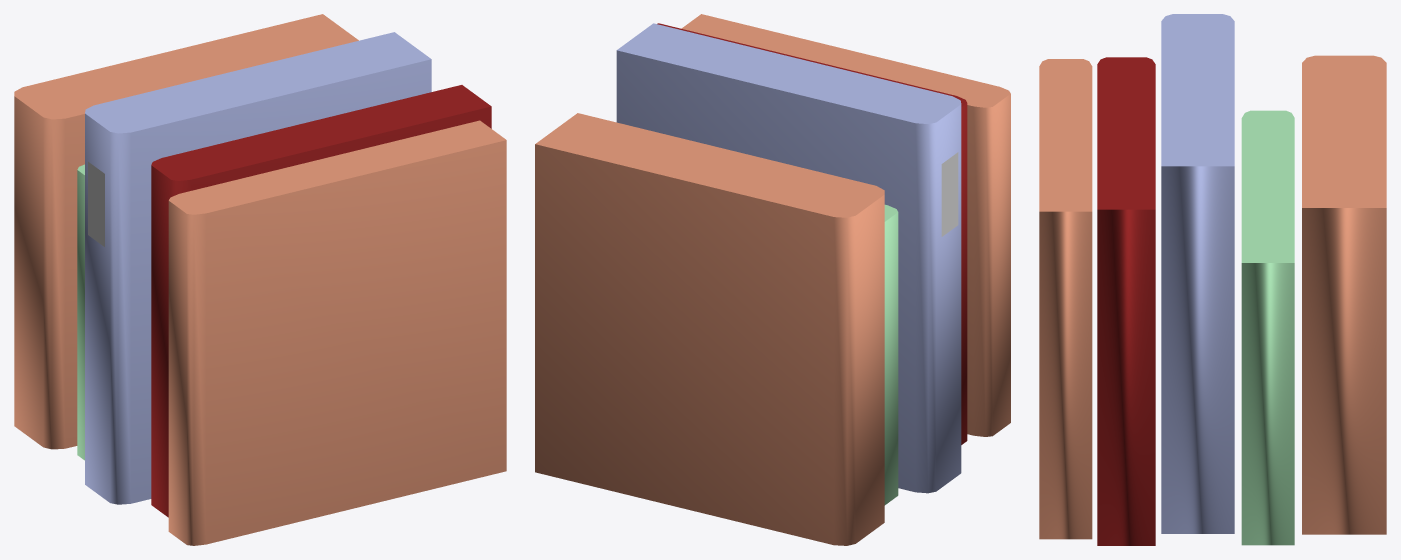
Rendered from books.013.gltf.
3 views of the same model, side by side, from view 1: azimuth 30°, elevation 25°; view 2: azimuth 150°, elevation 25°; view 3: azimuth 270°, elevation 25° (orthographic).
Parts seen in each view (by area): view 1: books.013; view 2: books.013; view 3: books.013.
Boxes of the visible parts, bbox=[...] form: books.013: bbox=[14, 14, 506, 545]; books.013: bbox=[535, 14, 1010, 545]; books.013: bbox=[1039, 14, 1386, 545].
Bounding box in the file's own units: 1.04 × 1.07 × 0.9164.
